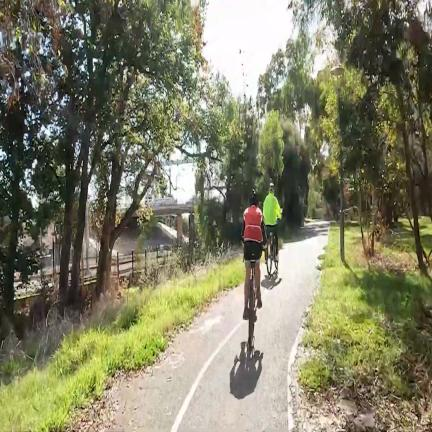Bike_Lane: (109, 222, 329, 432)
